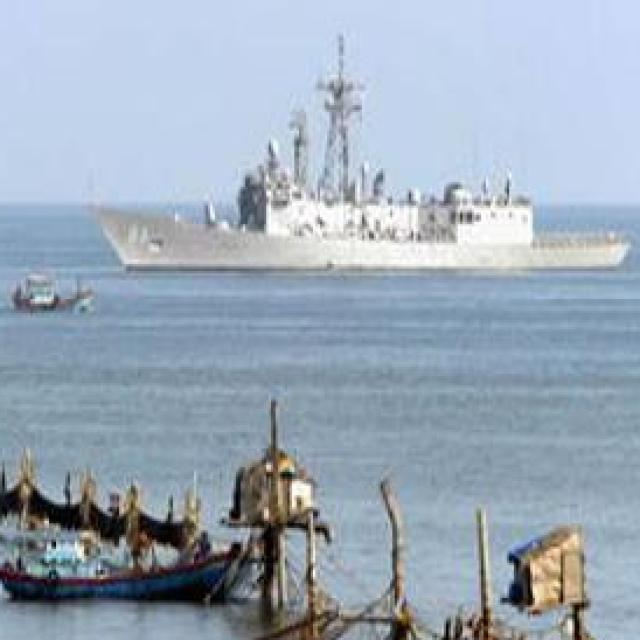navalvessels: (89, 27, 630, 276)
